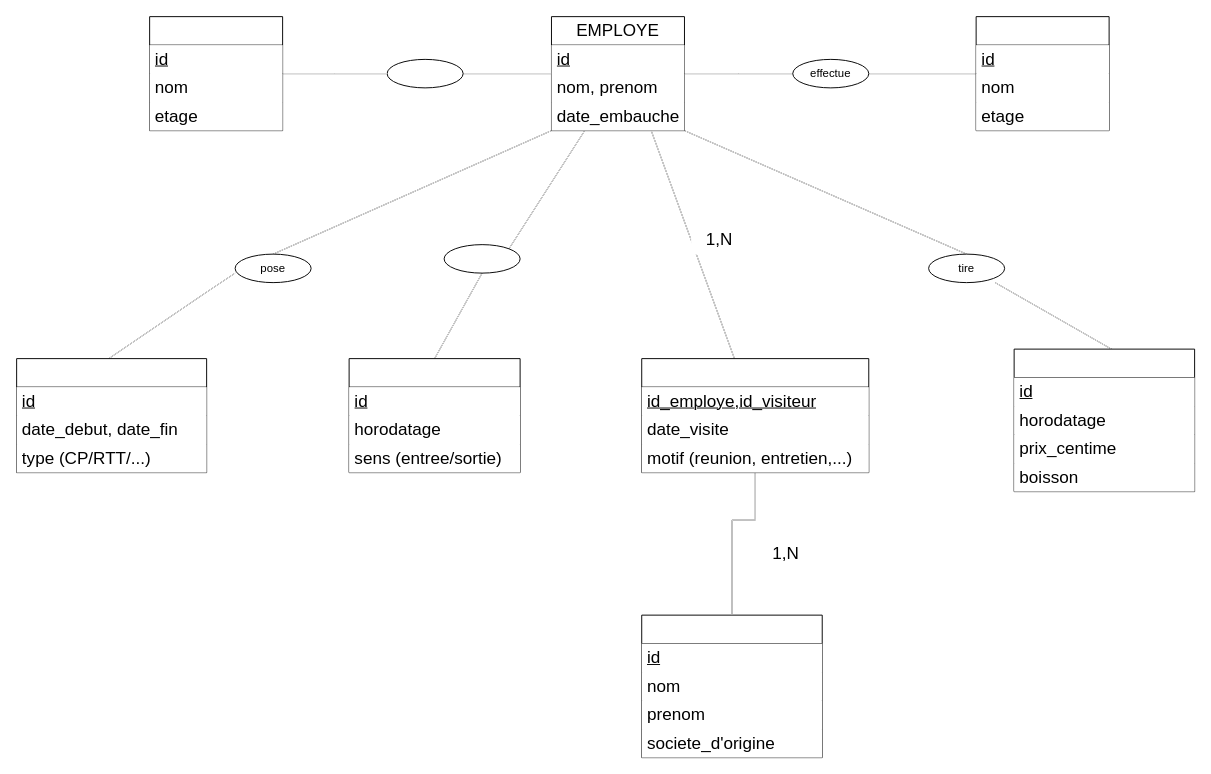
Image size: 1211x774. Some labels were removed from this diagram. Here are the shapes that lost their labels. From the top down, the box of each, then its label:
(149, 16, 283, 131): SERVICE
(386, 58, 463, 88): appartient
(975, 16, 1109, 131): BADGEAGE
(443, 244, 520, 273): franchit
(16, 358, 207, 473): CONGE
(348, 358, 520, 473): ACCES_PARKING
(641, 358, 869, 473): EST RECU PAR
(1013, 348, 1195, 492): TRANSACTION_CAFE
(641, 614, 822, 758): VISITEUR
